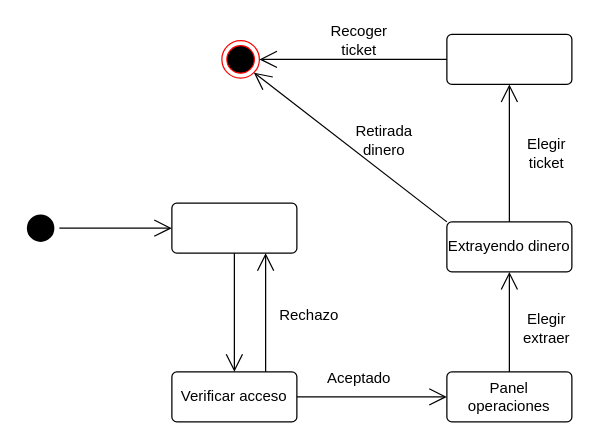
The diagram is 605 pixels wide and 444 high, and some of its shapes have lost their labels. Here are the shapes that lost their labels. From the top down, the centre of each, then its label:
[509,58]: Imprimiendo ticket
[234,227]: Inactivo
